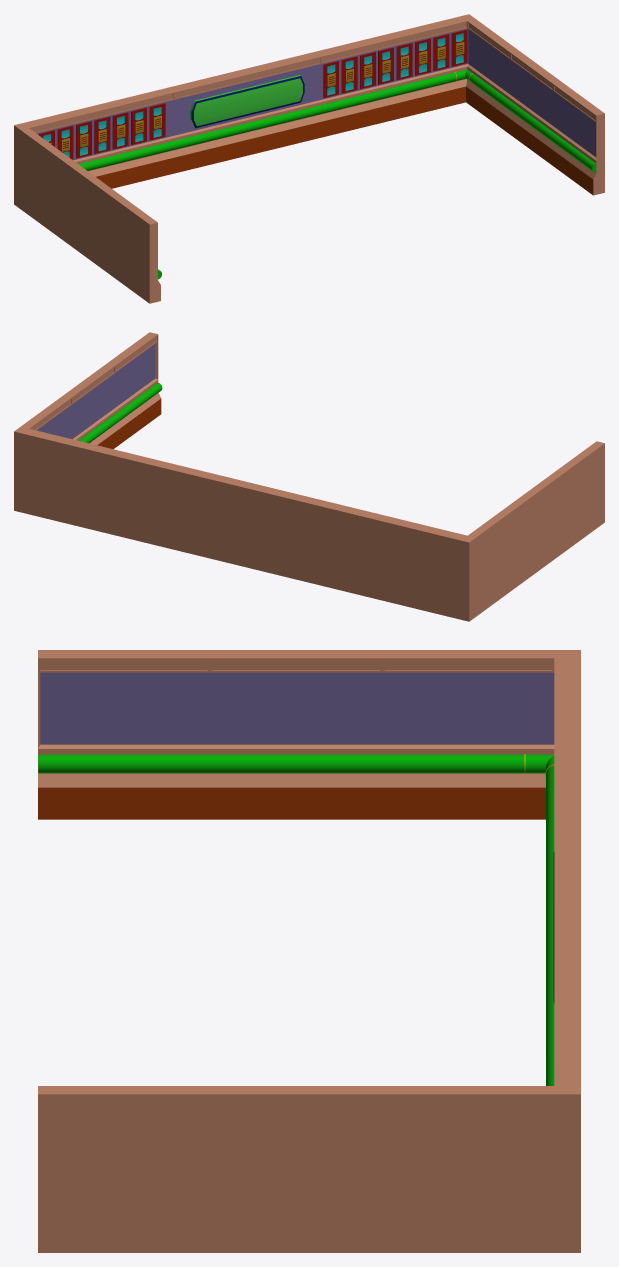
The model's file is wall first small room.FBX.
3 renders of one model, top to bottom at view 1: azimuth 30°, elevation 25°; view 2: azimuth 150°, elevation 25°; view 3: azimuth 270°, elevation 25°, orthographic. The views are drawn at different scales.
Parts seen in each view (by area): view 1: Wall first room; view 2: Wall first room; view 3: Wall first room.
Boxes of the visible parts, x1,y1,x2,y2 form: Wall first room: [14, 14, 604, 303]; Wall first room: [14, 332, 604, 621]; Wall first room: [38, 650, 580, 1252].
Bounding box in the file's own units: 8436 × 1403 × 4356.
